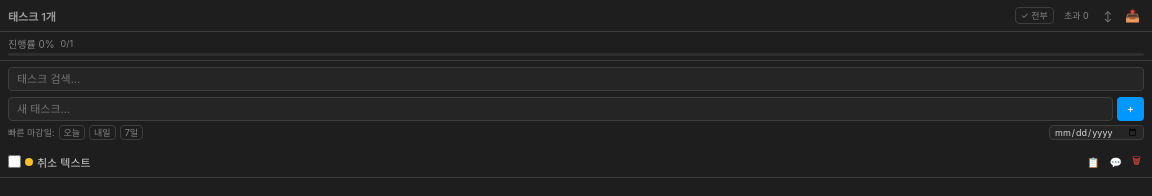
TasksPanel › 편집 중 Escape 키로 취소된다
Double-click the text "취소 텍스트" at (64, 162), box [37,156,91,170]
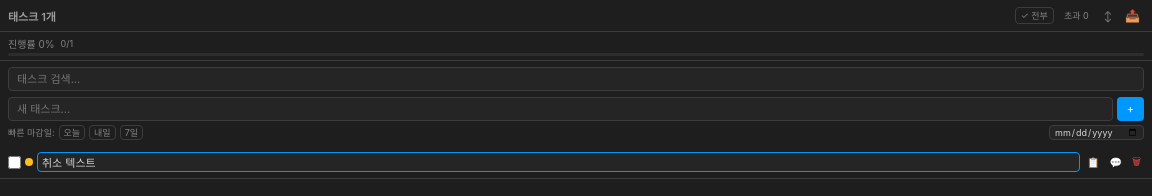
Replace the text in the field showing "취소 텍스트" with "바뀐 텍스트" at (558, 162), box [37,152,1080,172]
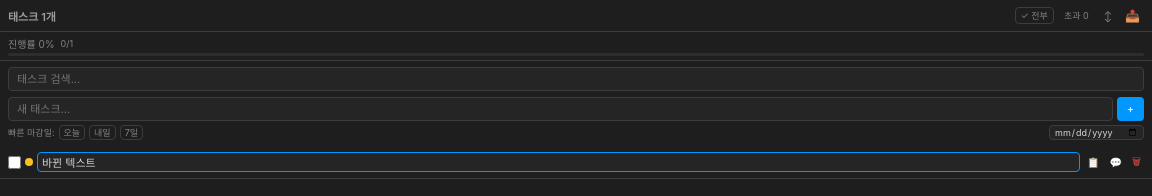
Press Escape in the field showing "취소 텍스트", box [37,152,1080,172]
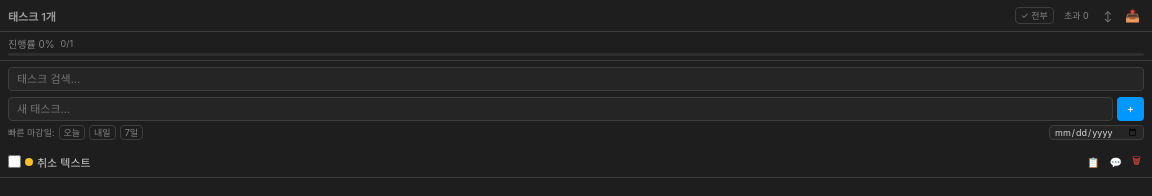
Result: the text "취소 텍스트" is shown at [37,156,91,170]
